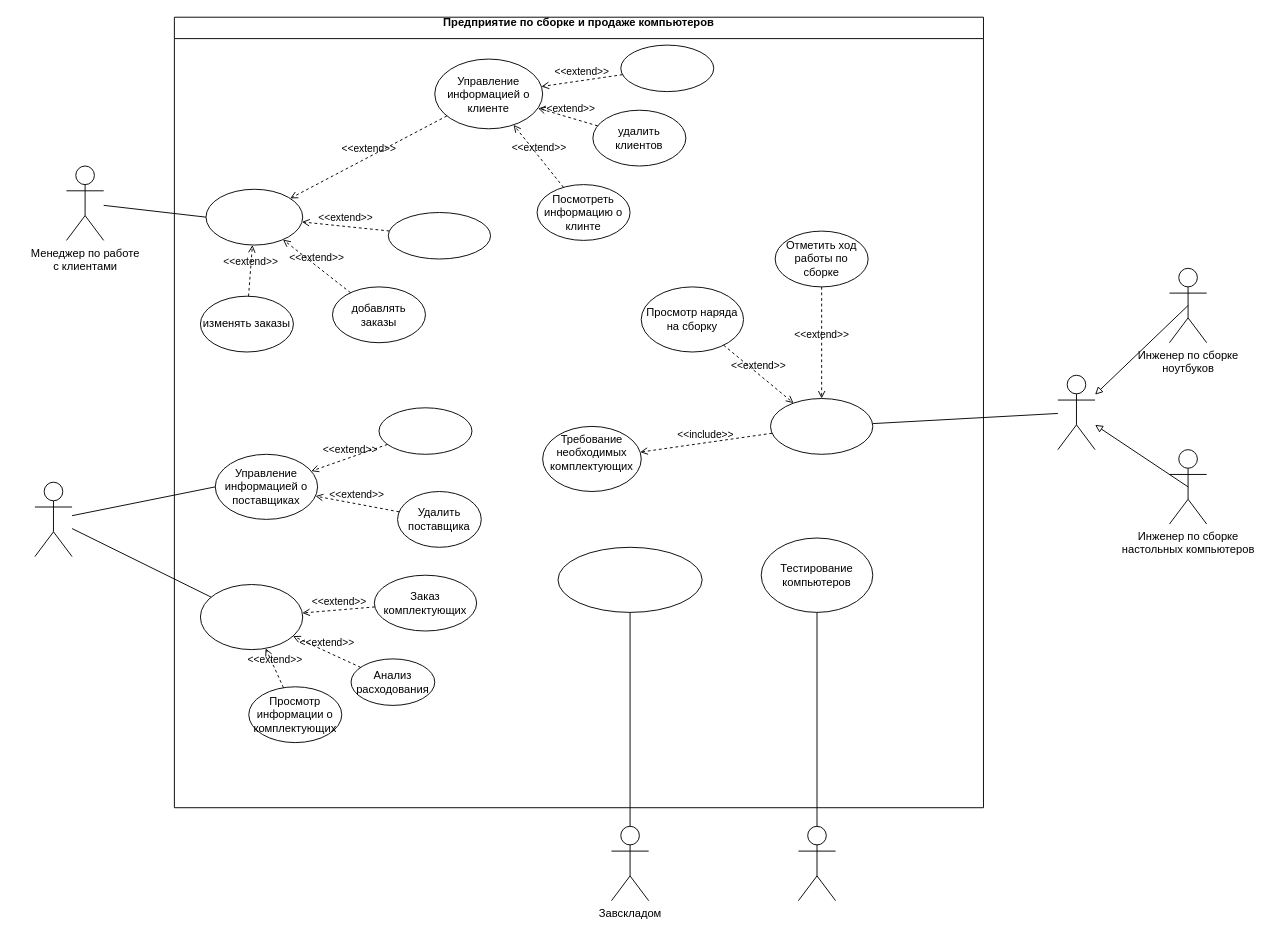
Some shapes in this 1270 by 950 pixel diagram are drawn without their labels. Here are the shapes that lost their labels. From the top down, the box of each, then its label:
(620, 44, 714, 92): добавить клиента
(205, 188, 303, 245): Работа с заказом
(387, 212, 491, 259): удалять заказы
(378, 407, 472, 454): Добавить поставщика
(770, 398, 873, 454): Сборка компьютеров
(1057, 374, 1095, 450): Инженер по сборке
(34, 481, 72, 557): Менеджер по снабжению
(557, 546, 702, 612): Учет поступления и выдачи комплектующих
(199, 584, 303, 650): Управление информацией о комплектующих
(797, 825, 836, 901): Инженер по тестированию
